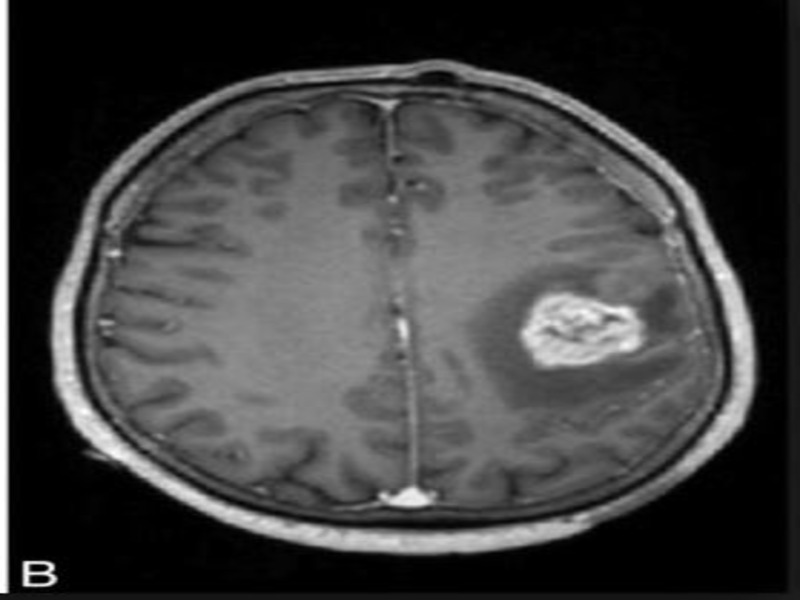tumor: (510, 283, 656, 375)
